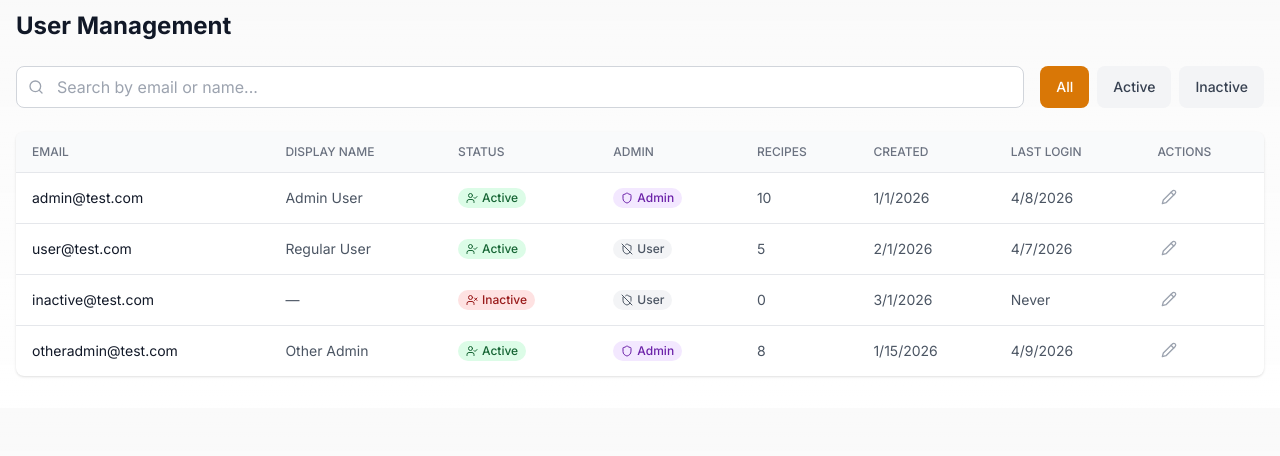
Test: UsersPage › dismisses error on new action
The width and height of the screenshot is (1280, 456).
Expected: the text "admin@test.com" is shown, left=16, top=172, right=269, bottom=224
Trigger self-deactivate error
Click the switch named "toggle active status" at (492, 198), box left=458, top=188, right=526, bottom=208
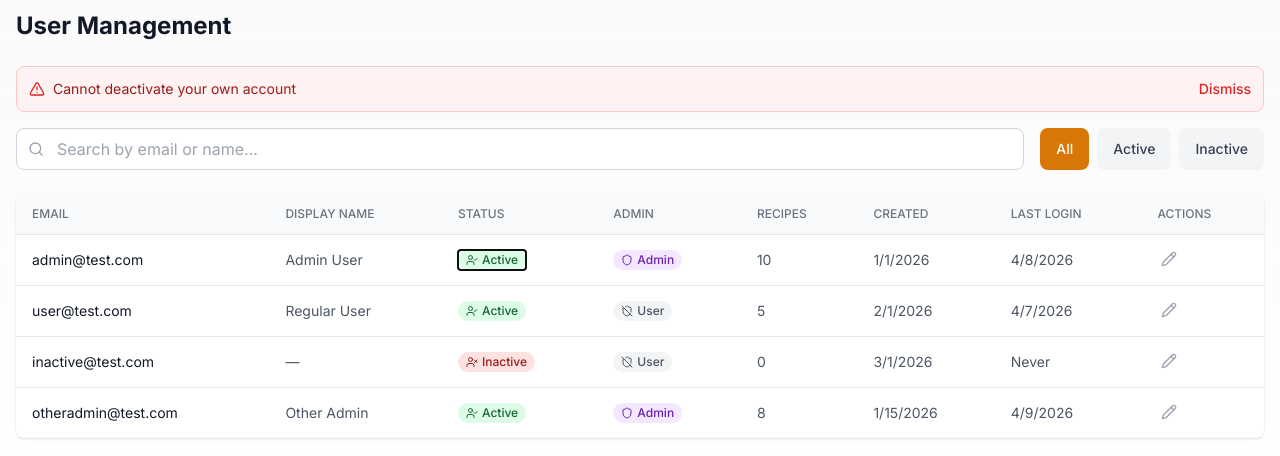
Now the text "Cannot deactivate your own account" is shown, box left=53, top=79, right=296, bottom=99
Now click Dismiss
Click the button "Dismiss" at (1225, 89), box left=1199, top=79, right=1251, bottom=99
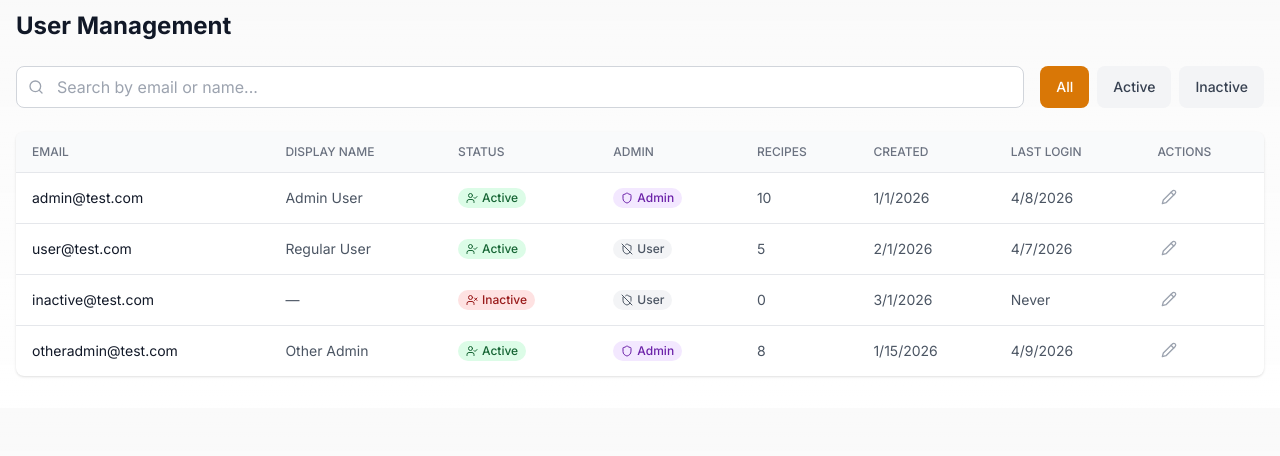
Now the text "Cannot deactivate your own account" is gone
